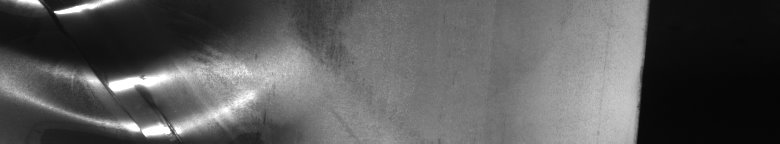ke: (14, 4, 236, 136)
